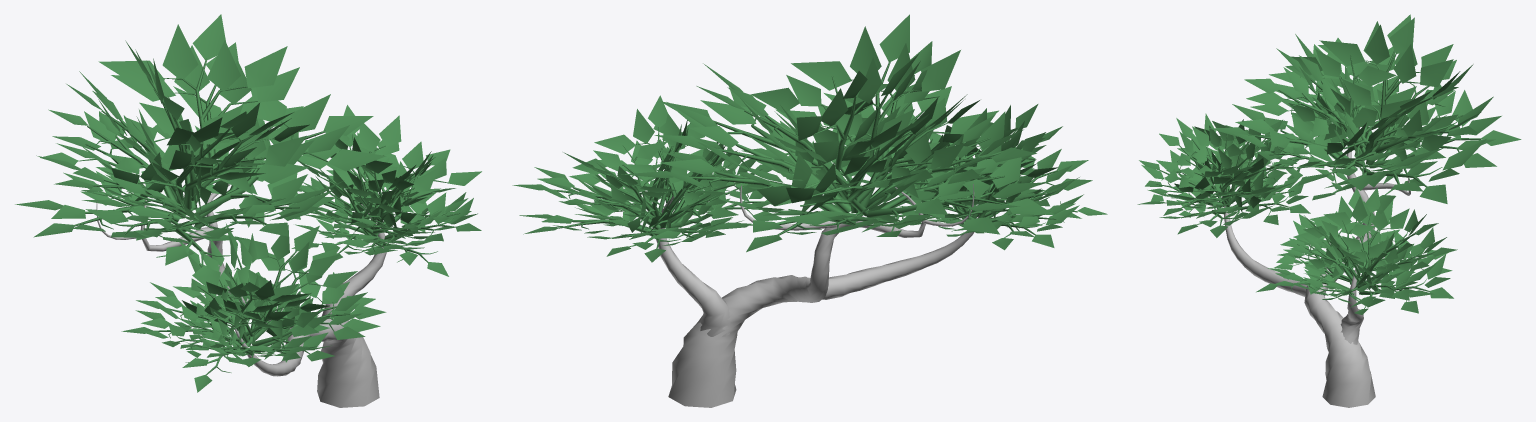
The model's file is tree4.fbx.
3 renders of one model, left to right at view 1: azimuth 30°, elevation 25°; view 2: azimuth 150°, elevation 25°; view 3: azimuth 270°, elevation 25°, orthographic. The views are drawn at different scales.
Visible parts, largest first — view 1: tree1; view 2: tree1; view 3: tree1.
Boxes of the visible parts, x1,y1,x2,y2 form: tree1: (15, 14, 481, 407); tree1: (512, 14, 1107, 407); tree1: (1137, 14, 1521, 407).
Bounding box in the file's own units: 20.54 × 15.67 × 17.88.
